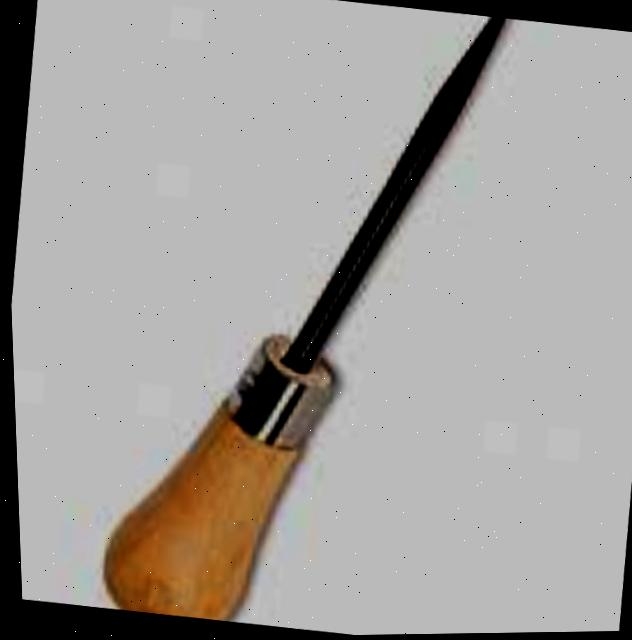ice pick: (73, 0, 537, 639)
